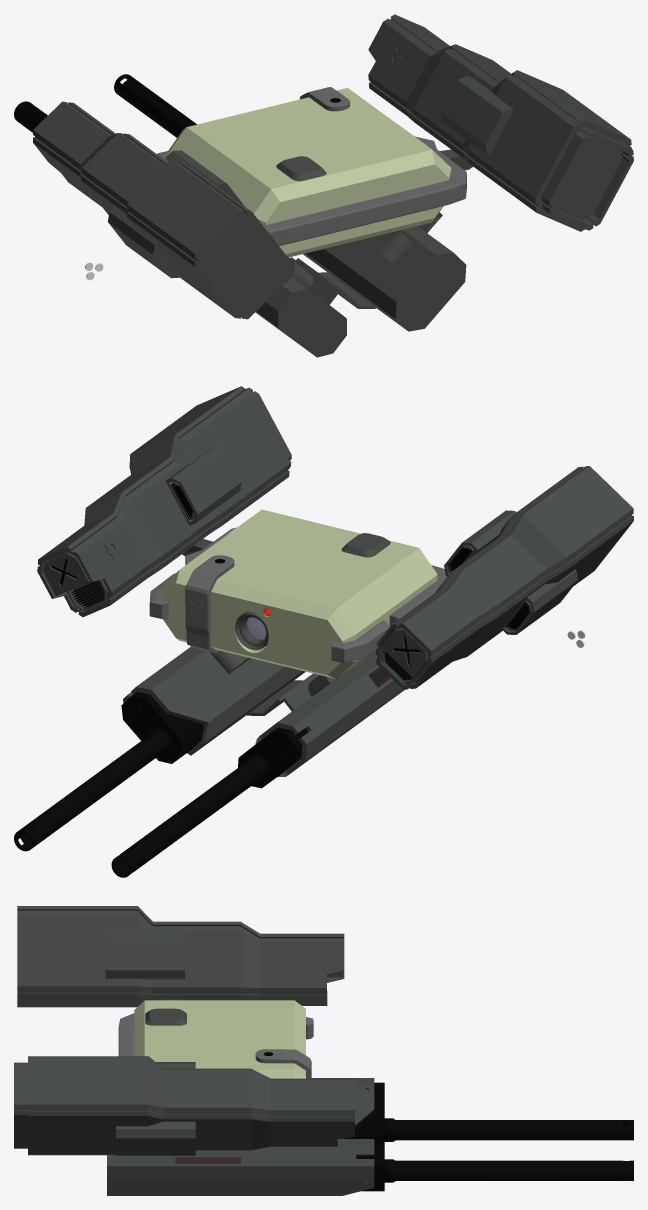
File: Drone.glb
3 renders of one model, top to bottom at view 1: azimuth 30°, elevation 25°; view 2: azimuth 150°, elevation 25°; view 3: azimuth 270°, elevation 25°, orthographic. The views are drawn at different scales.
Visible parts, largest first — view 1: Cube, Cube.021, Cube.030, Cube.014, Cube.088, Cube.023, Cube.007, Cube.040, Cylinder.008, Cube.028, Cube.016, Cube.004 (+5 smaller); view 2: Cube, Cube.030, Cube.021, Cube.014, Cube.007, Cylinder.007, Cylinder.008, Cube.040, Cube.015, Cube.003, Cube.008, Cube.028 (+7 smaller); view 3: Cube.030, Cube.021, Cube.014, Cube, Cylinder.007, Cylinder.008, Cube.038, Cube.033, Cube.088, Cube.008, Cube.007, Cube.003 (+4 smaller).
Boxes of the visible parts, box(x1,y1,x2,y2) form: Cube: box(167, 88, 451, 257); Cube.021: box(33, 101, 292, 319); Cube.030: box(368, 14, 631, 231); Cube.014: box(303, 226, 466, 331); Cube.088: box(541, 127, 633, 230); Cube.023: box(262, 136, 466, 245); Cube.007: box(255, 277, 346, 357); Cube.040: box(440, 75, 513, 155); Cylinder.008: box(114, 74, 196, 137); Cube.028: box(108, 206, 181, 278); Cube.016: box(360, 230, 413, 265); Cube.004: box(276, 156, 326, 181); Cube: box(161, 509, 437, 678); Cube.030: box(37, 386, 289, 617); Cube.021: box(376, 466, 633, 689); Cube.014: box(123, 646, 305, 755); Cube.007: box(255, 651, 404, 776); Cylinder.007: box(111, 755, 269, 877); Cylinder.008: box(14, 728, 172, 851); Cube.040: box(165, 446, 241, 525); Cube.015: box(121, 691, 203, 763); Cube.003: box(185, 555, 234, 653); Cube.008: box(238, 727, 308, 788); Cube.028: box(502, 569, 577, 634); Cube.030: box(28, 1056, 354, 1155); Cube.021: box(17, 906, 344, 1007); Cube.014: box(107, 1139, 374, 1195); Cube: box(134, 1000, 305, 1078); Cylinder.007: box(384, 1118, 633, 1141); Cylinder.008: box(384, 1159, 633, 1182); Cube.038: box(105, 932, 184, 979); Cube.033: box(116, 1121, 195, 1155); Cube.088: box(14, 1062, 27, 1148); Cube.008: box(344, 1082, 384, 1143); Cube.007: box(311, 1078, 374, 1138); Cube.003: box(255, 1049, 311, 1078).
Size of the model in its own units: 2.91 by 1.27 by 3.73.
